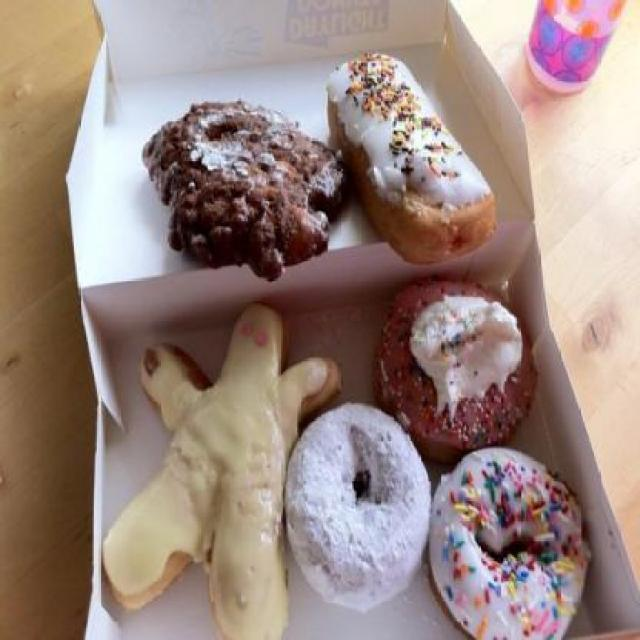Donuts: (100, 52, 592, 638)
